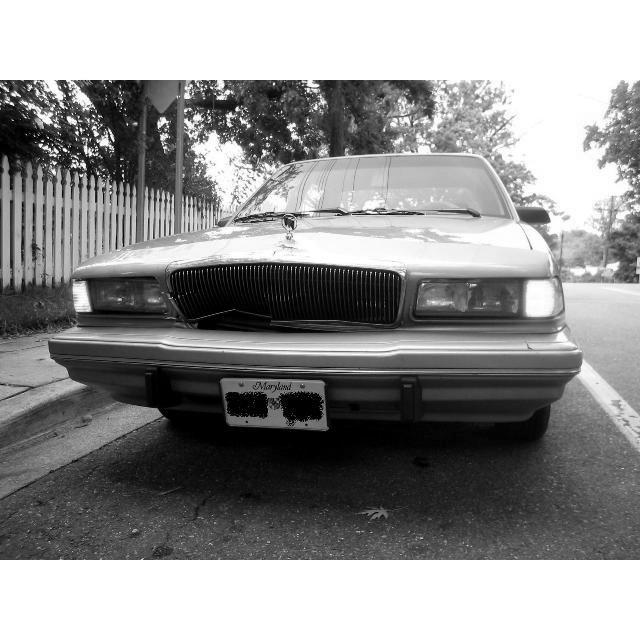front-bumper-dent: (64, 258, 548, 407)
